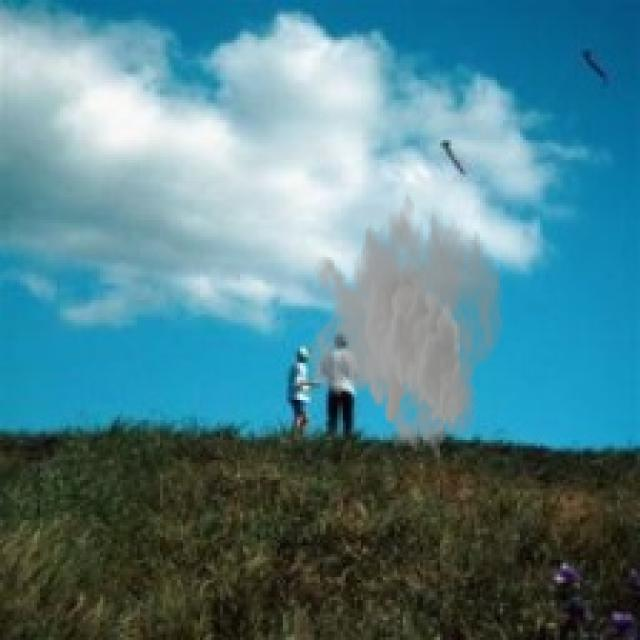smoke: (306, 183, 506, 463)
